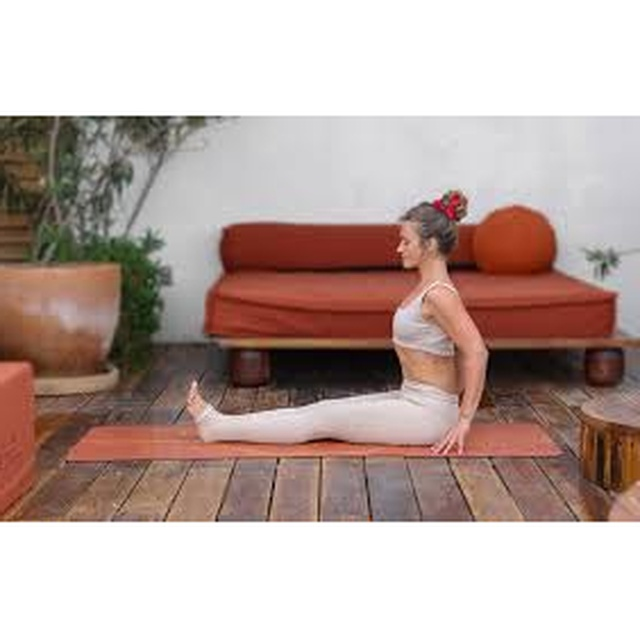Staff_Pose: (184, 190, 489, 455)
